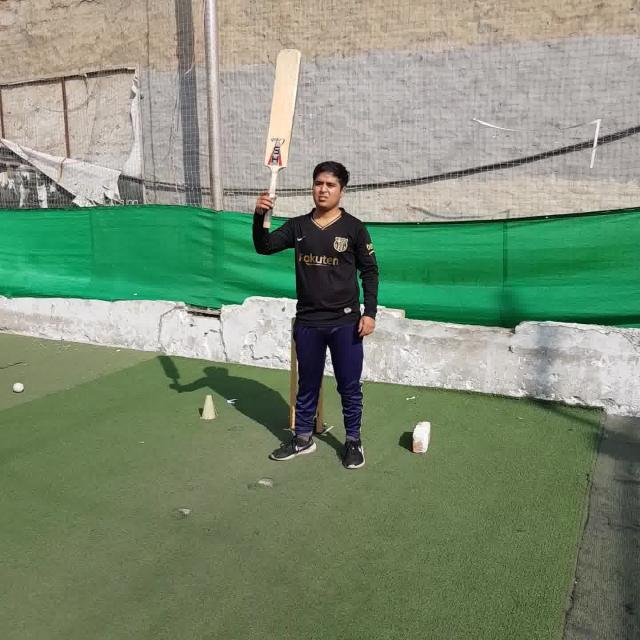bat: (262, 49, 302, 227)
